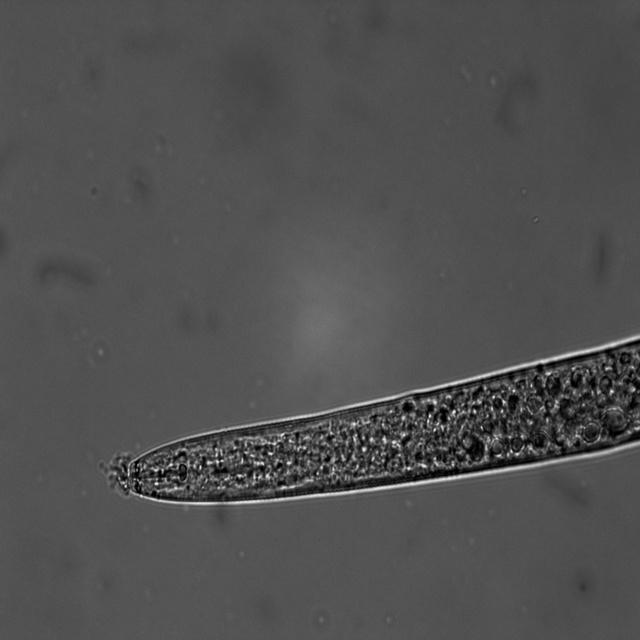Pratylenchus: (104, 301, 640, 513)
